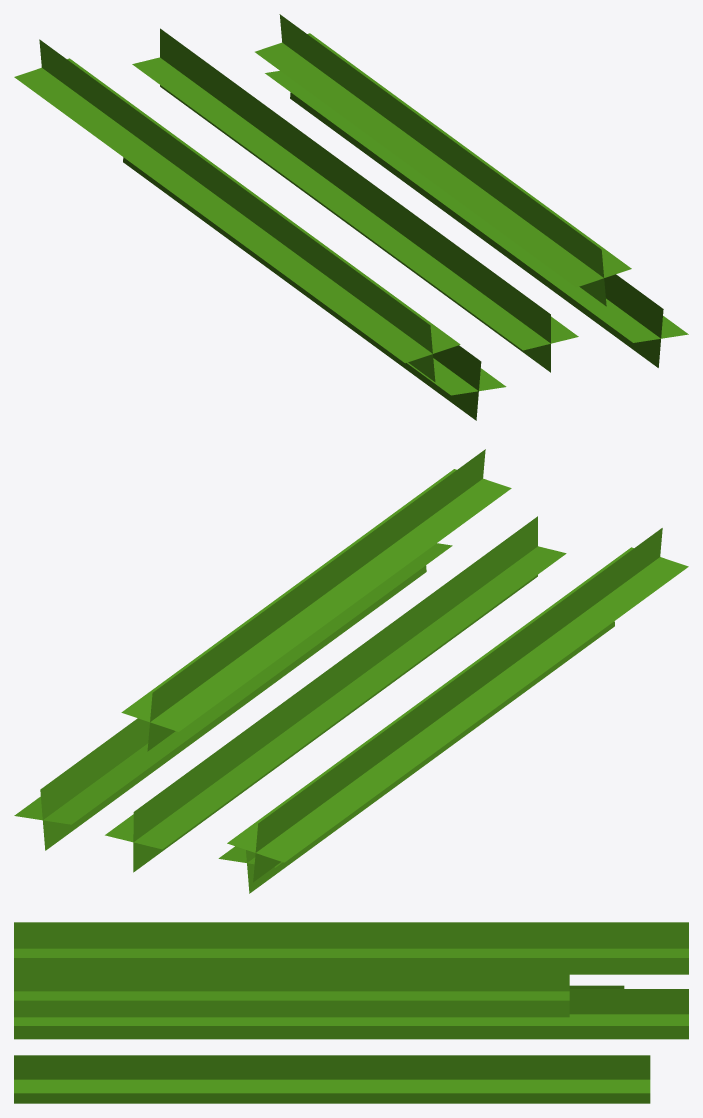
File: cao_1.FBX
3 renders of one model, top to bottom at view 1: azimuth 30°, elevation 25°; view 2: azimuth 150°, elevation 25°; view 3: azimuth 270°, elevation 25°, orthographic. The views are drawn at different scales.
Visible parts, largest first — view 1: cao_1; view 2: cao_1; view 3: cao_1.
Boxes of the visible parts, box(x1,y1,x2,y2) form: cao_1: box(14, 14, 688, 420); cao_1: box(14, 449, 688, 893); cao_1: box(14, 922, 688, 1103).
Bounding box in the file's own units: 39.53 × 18.72 × 94.33.
